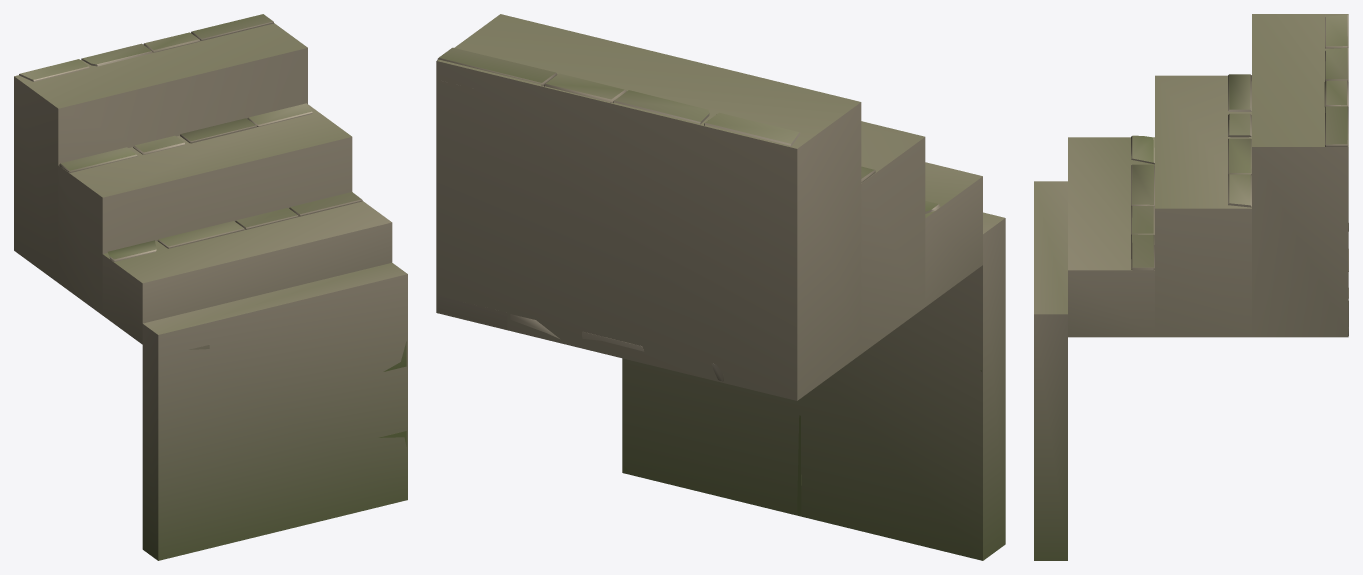
The model's file is sanctuary_stair_arch.glb.
The picture shows the model from 3 angles, left to right: view 1: azimuth 30°, elevation 25°; view 2: azimuth 150°, elevation 25°; view 3: azimuth 270°, elevation 25°; orthographic projection. The views are drawn at different scales.
Parts seen in each view (by area): view 1: sanctuary_stair_arch_far, sanctuary_stair_arch; view 2: sanctuary_stair_arch_far, sanctuary_stair_arch; view 3: sanctuary_stair_arch_far, sanctuary_stair_arch.
Part boxes in pixels (x1,y1,x2,y2): sanctuary_stair_arch_far: [14, 23, 407, 560]; sanctuary_stair_arch: [19, 14, 406, 446]; sanctuary_stair_arch_far: [436, 14, 1005, 560]; sanctuary_stair_arch: [437, 47, 981, 514]; sanctuary_stair_arch_far: [1034, 14, 1348, 560]; sanctuary_stair_arch: [1131, 14, 1348, 335].
Size of the model in its own units: 18.5 by 27 by 18.51.
